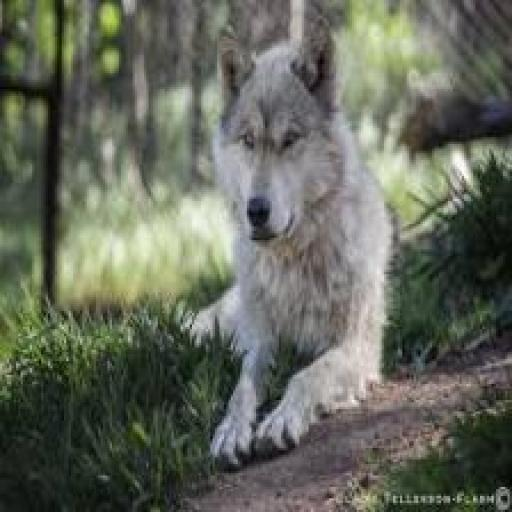wolf: (164, 0, 415, 472)
